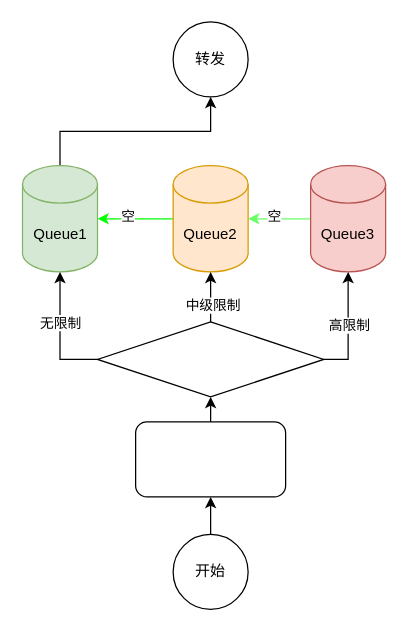
Some shapes in this 408 by 631 pixel diagram are drawn without their labels. Each missing label, with the box of its shape:
根据异常流规则 设置包QoS: (96, 321, 324, 397)
重置QoS: (134, 421, 286, 497)
